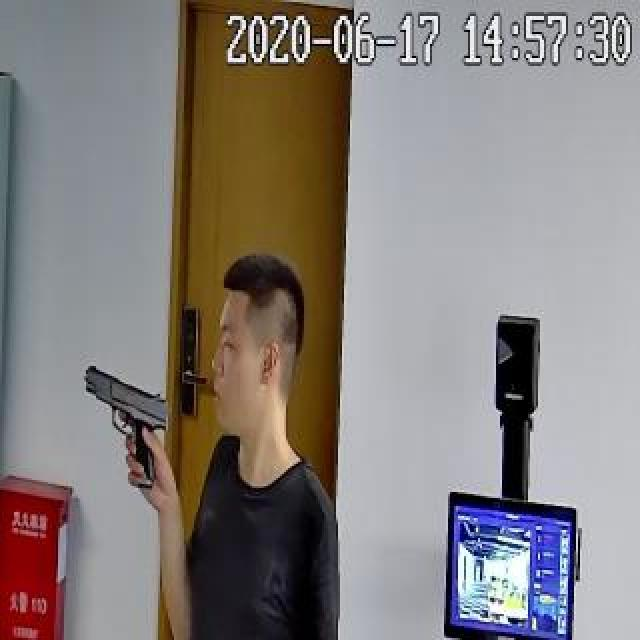Guns: (70, 337, 196, 514)
